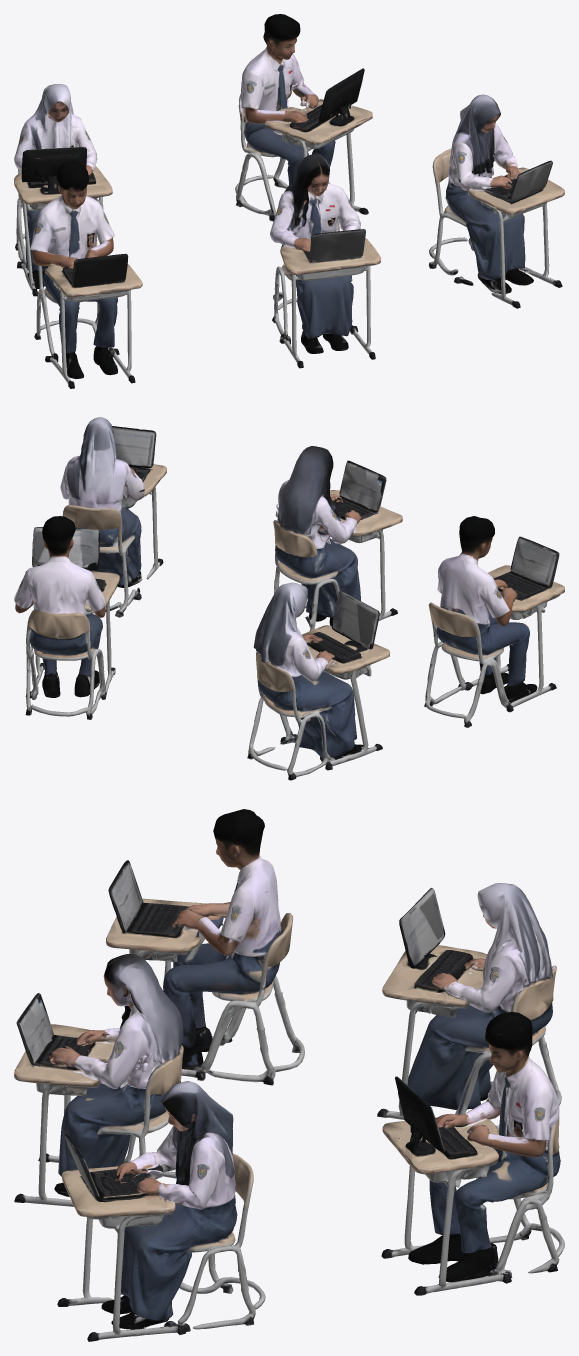
Rendered from 6__kemandirian_final.glb.
3 renders of one model, top to bottom at view 1: azimuth 30°, elevation 25°; view 2: azimuth 150°, elevation 25°; view 3: azimuth 270°, elevation 25°, orthographic. The views are drawn at different scales.
Visible parts, largest first — view 1: mesh_node; view 2: mesh_node; view 3: mesh_node.
Part boxes in pixels (box(x1,y1,x2,y2)): mesh_node: box(14, 14, 564, 388); mesh_node: box(14, 417, 564, 780); mesh_node: box(14, 809, 564, 1341).
Bounding box in the file's own units: 1.9 × 0.7106 × 1.41.
Materials: 1 (1 with a texture image).
